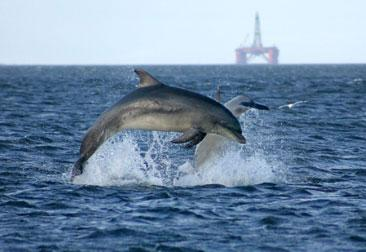dolphin: (57, 66, 276, 179)
